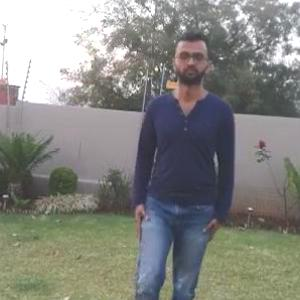follow: (132, 41, 230, 299)
